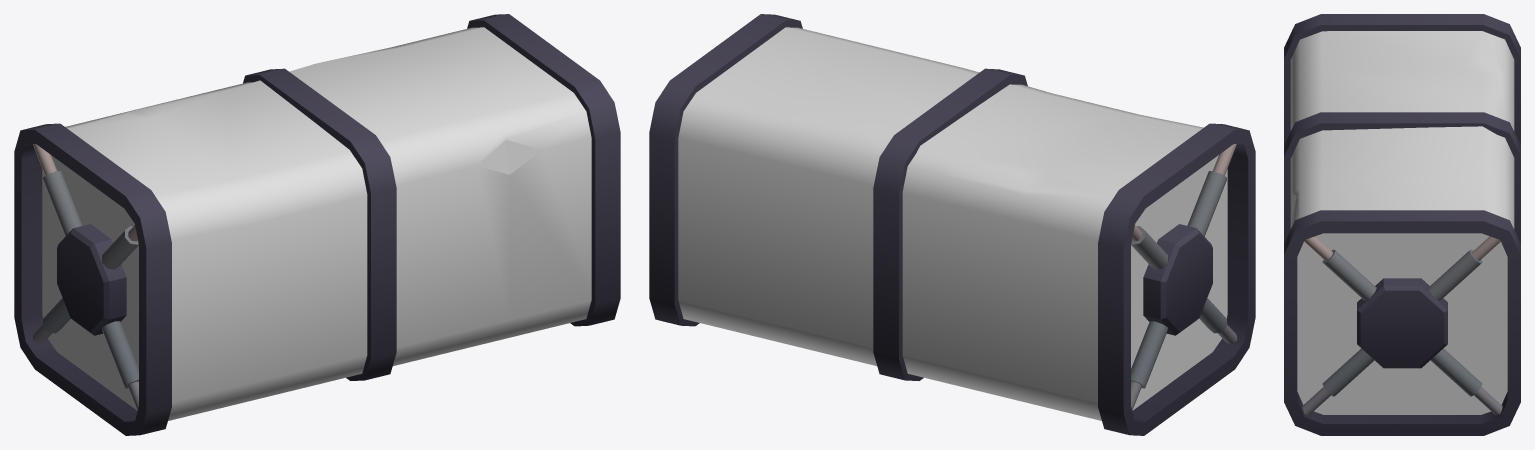
Rendered from MiddleBox.fbx.
The picture shows the model from 3 angles, left to right: view 1: azimuth 30°, elevation 25°; view 2: azimuth 150°, elevation 25°; view 3: azimuth 270°, elevation 25°; orthographic projection. The views are drawn at different scales.
Visible parts, largest first — view 1: MiddleBox; view 2: MiddleBox; view 3: MiddleBox.
Boxes of the visible parts, <box> form: MiddleBox: <box>14,14,620,435</box>; MiddleBox: <box>649,14,1255,435</box>; MiddleBox: <box>1284,14,1520,435</box>.
Size of the model in its own units: 658 by 318 by 318.
